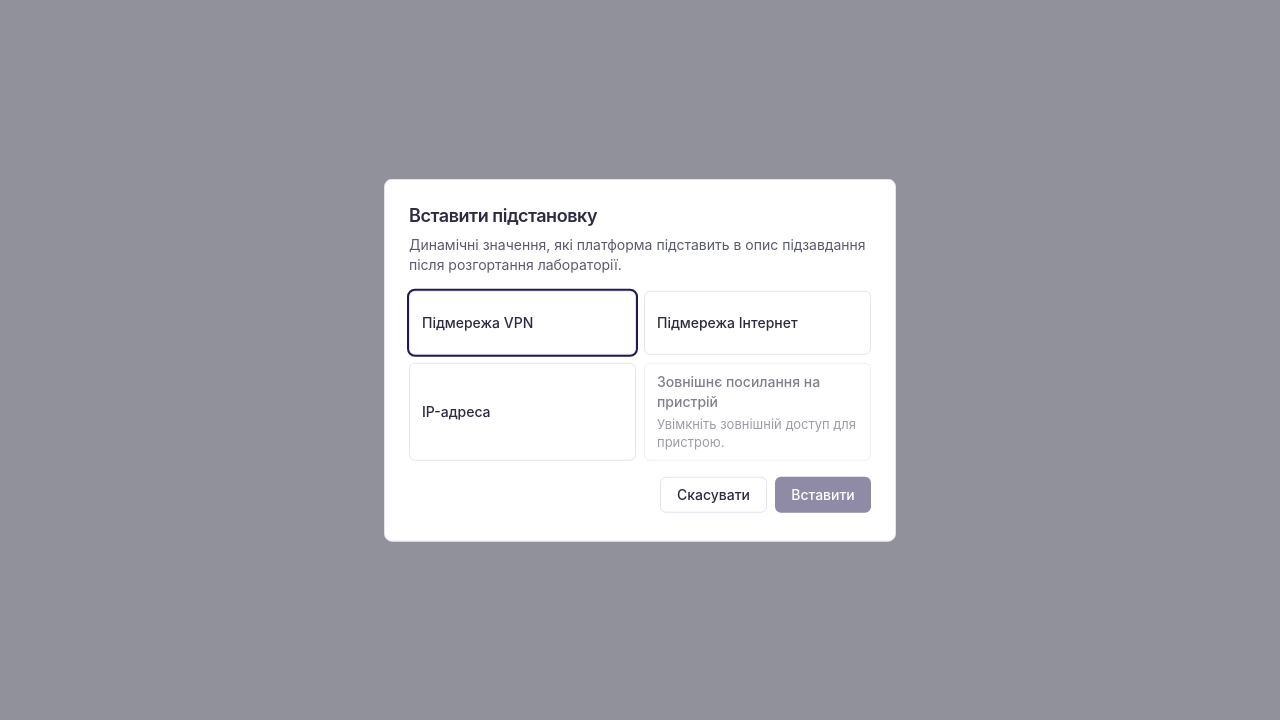
Test case: PlaceholderDialog › names both network choices explicitly and uses the shared dropdown control
Click the button "IP-адреса": (522, 411) [409, 362, 636, 460]
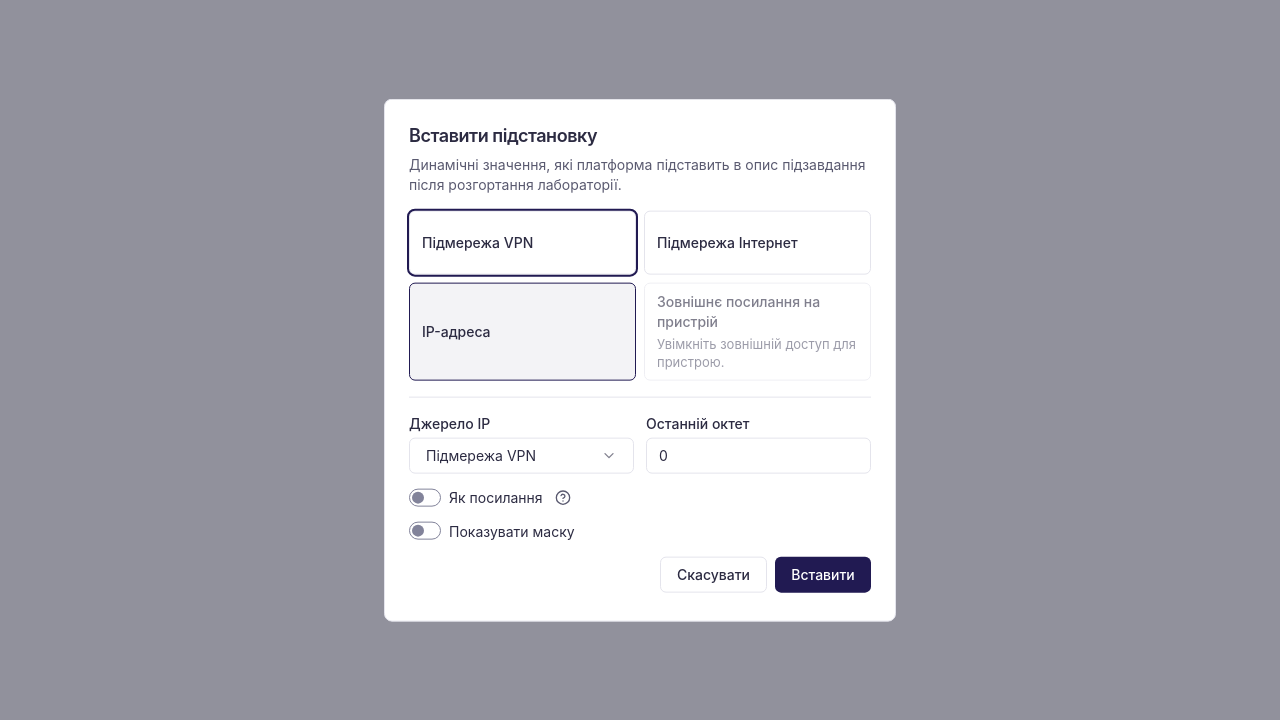
Press ArrowDown in the button with aria-label "Джерело IP", box [409, 437, 634, 473]
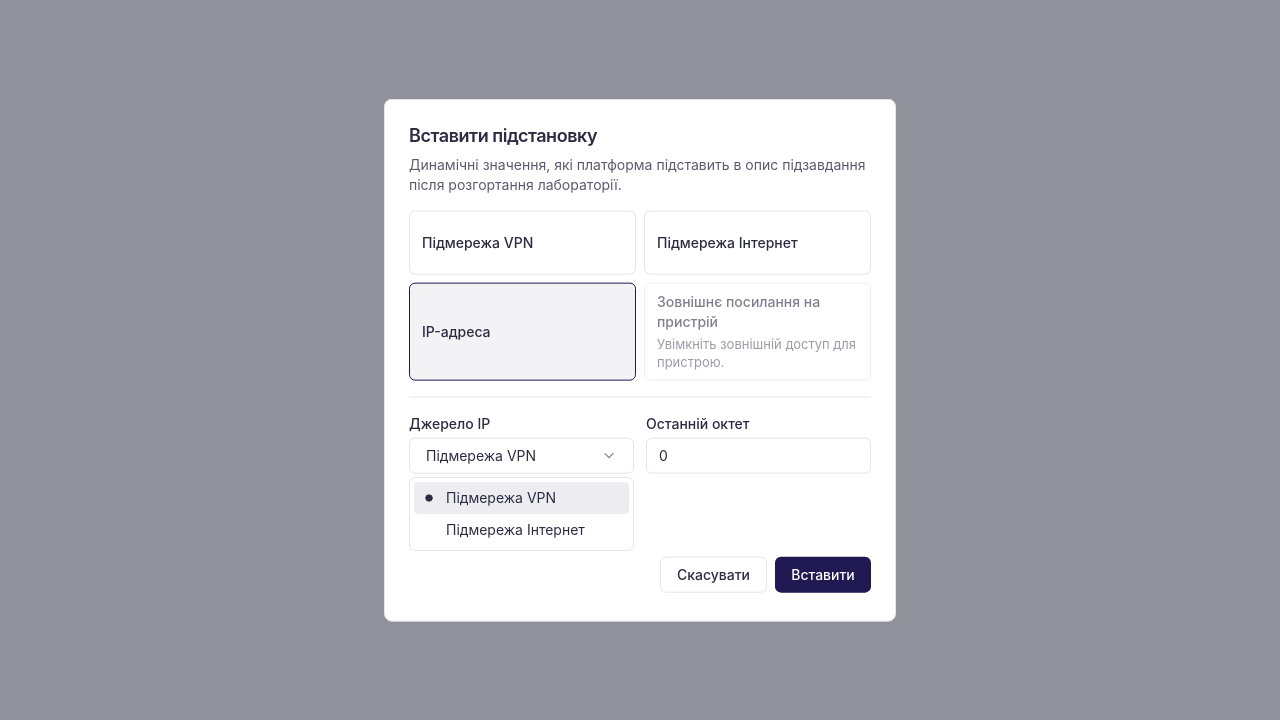
Now the menu item "Підмережа VPN" is shown, box [414, 482, 629, 514]
Now the menu item "Підмережа Інтернет" is shown, box [446, 521, 585, 538]
